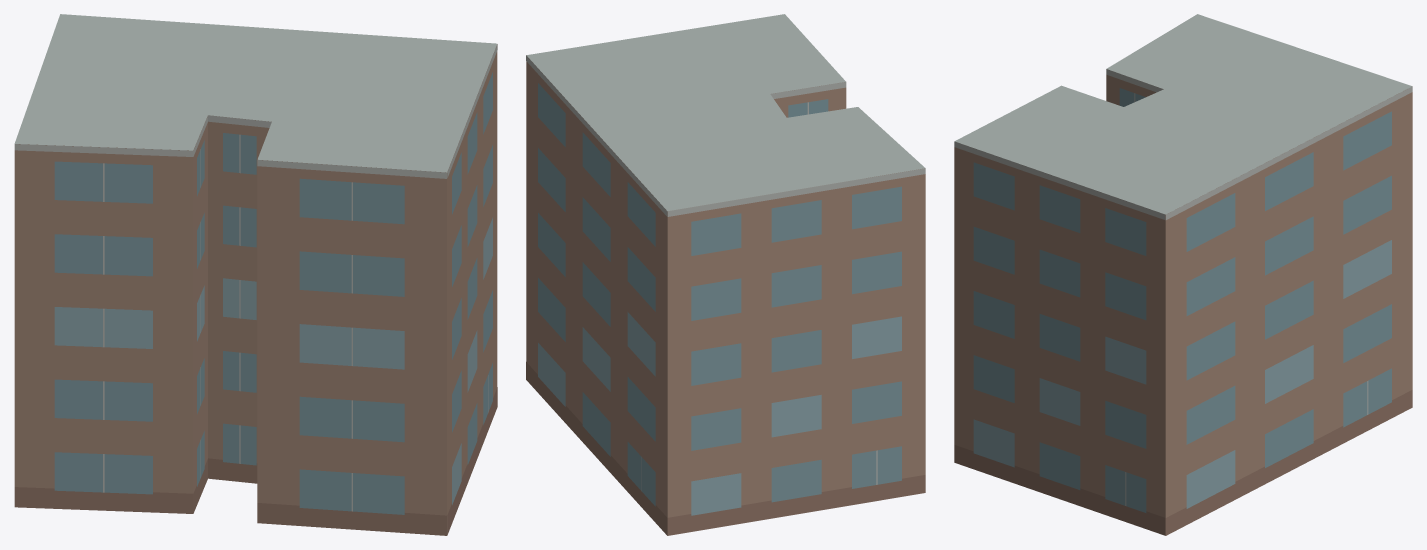
File: survey-upis-33040405.glb
The picture shows the model from 3 angles, left to right: view 1: azimuth 30°, elevation 25°; view 2: azimuth 150°, elevation 25°; view 3: azimuth 270°, elevation 25°; orthographic projection. The views are drawn at different scales.
Parts seen in each view (by area): view 1: survey-upis-33040405.tmp; view 2: survey-upis-33040405.tmp; view 3: survey-upis-33040405.tmp.
Part boxes in pixels (x1,y1,x2,y2): survey-upis-33040405.tmp: (14,14,497,535); survey-upis-33040405.tmp: (526,14,925,535); survey-upis-33040405.tmp: (954,14,1412,535).
Bounding box in the file's own units: 18.36 × 13.7 × 17.72.
